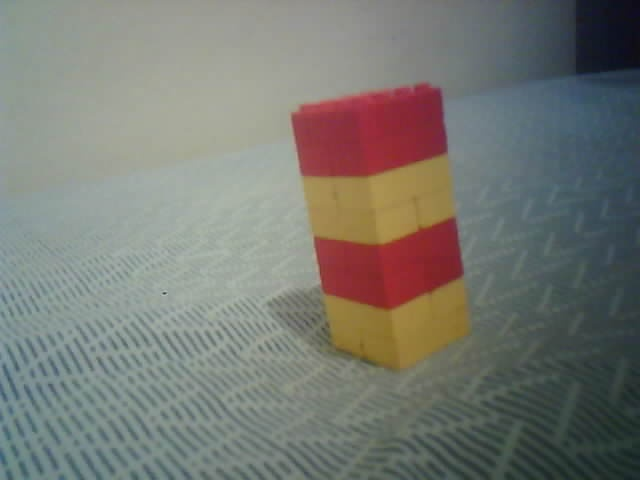lego: (289, 81, 471, 375)
